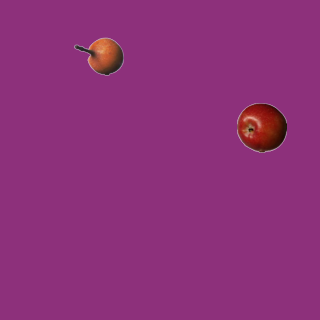Apple Braeburn: (236, 102, 286, 152)
Granadilla: (73, 31, 123, 81)
